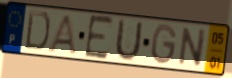A: (46, 14, 78, 57)
D: (23, 8, 52, 53)
E: (83, 13, 115, 62)
G: (150, 22, 178, 67)
N: (176, 26, 208, 68)
U: (113, 17, 145, 63)
